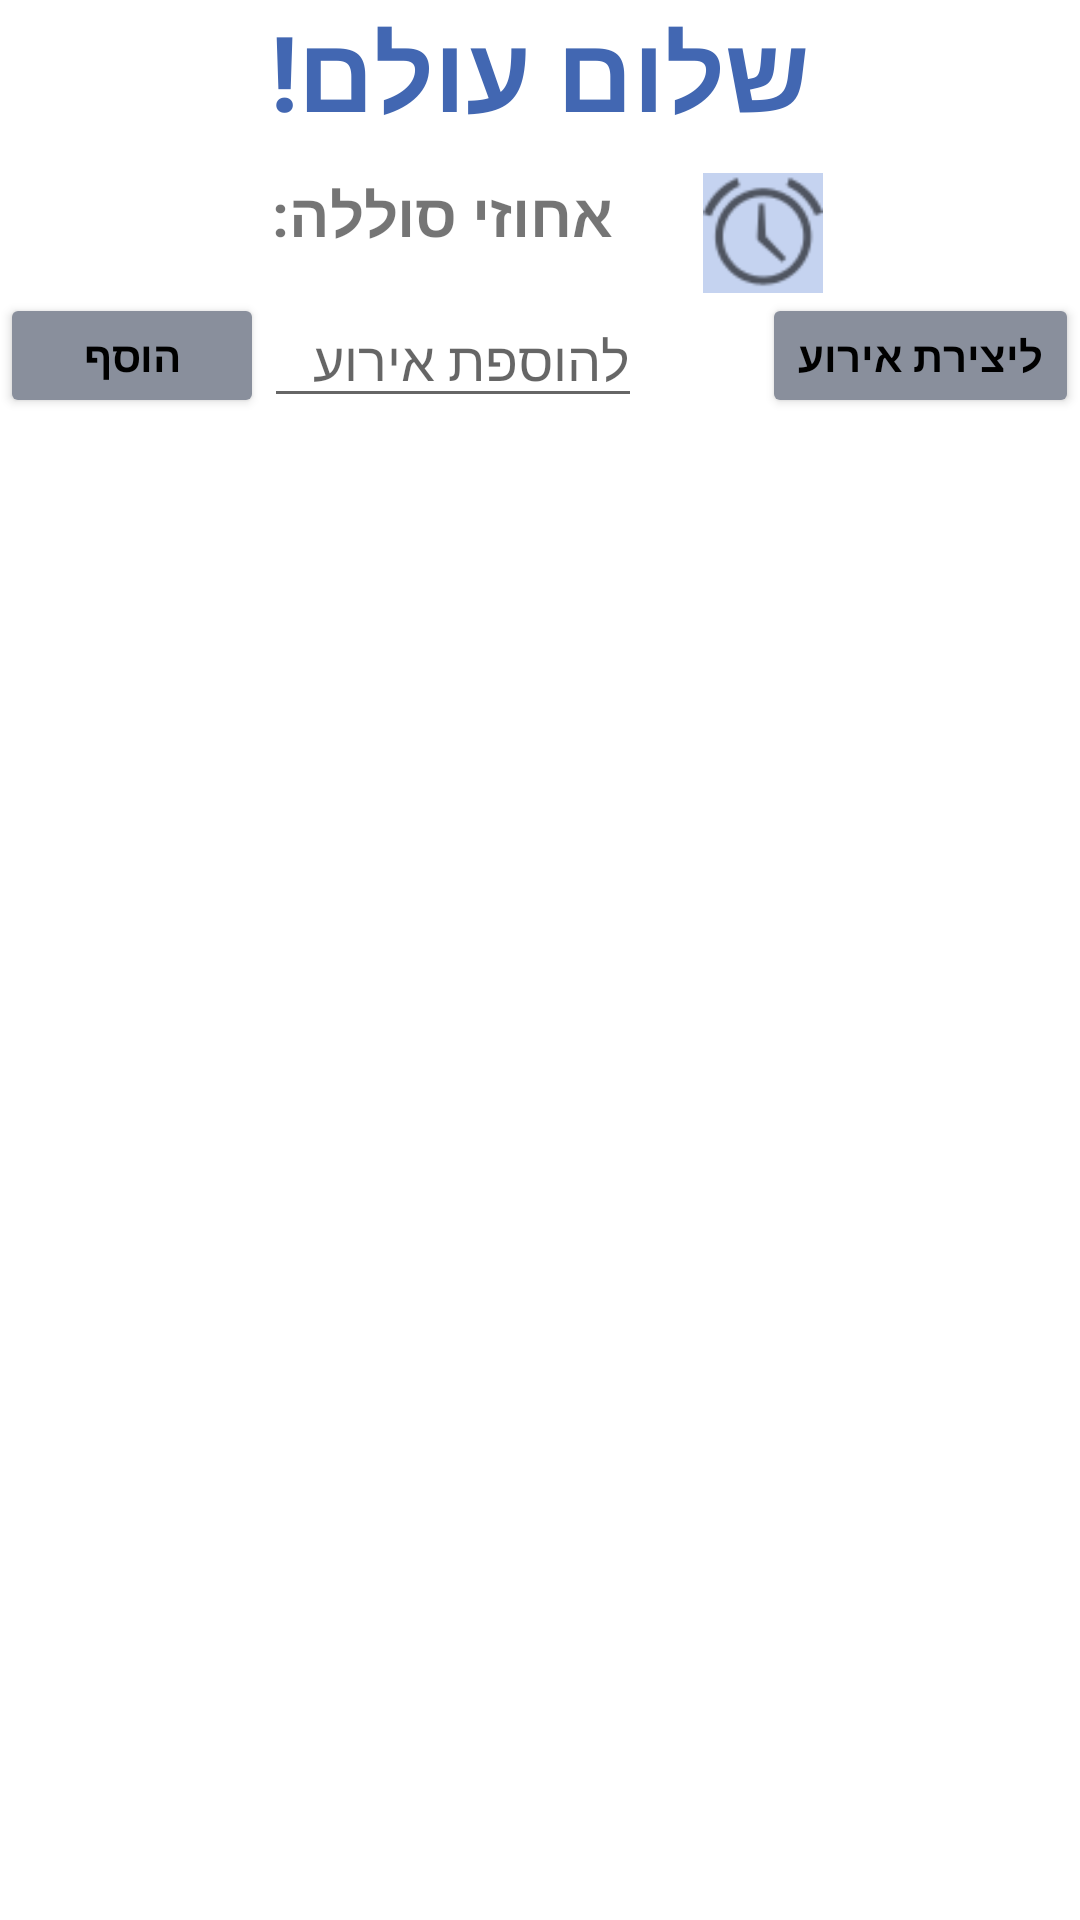

Icons on this 1080x1920 Android screen, each with its box as (x1, y1, x2, y2):
lock idle alarm: (703, 173, 823, 293)
